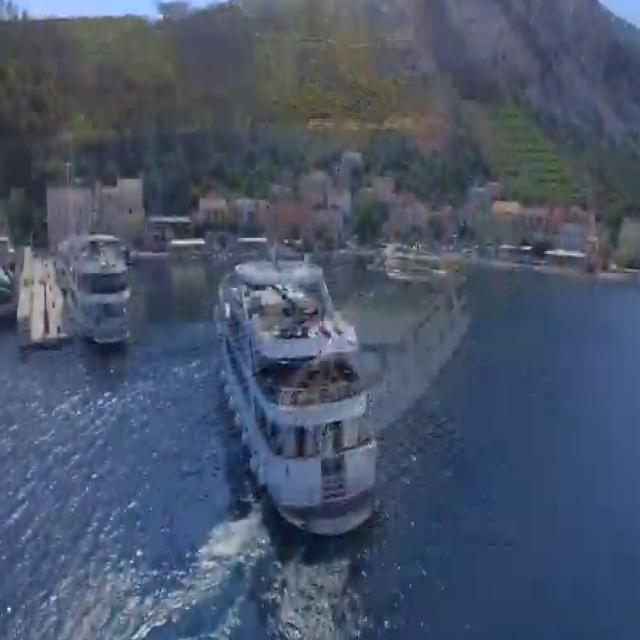passenger ship: (210, 237, 373, 530), (65, 226, 130, 340)
